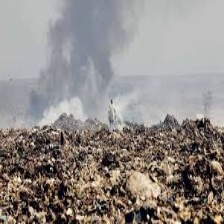smoke: (37, 2, 130, 114)
